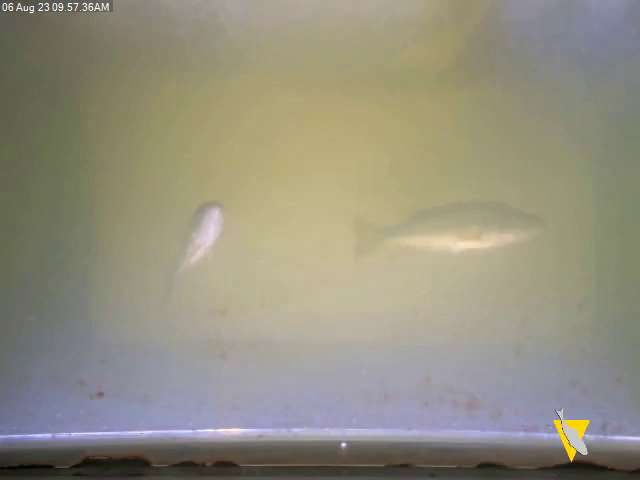\uBCA0\uC2A4: (339, 184, 562, 271)
